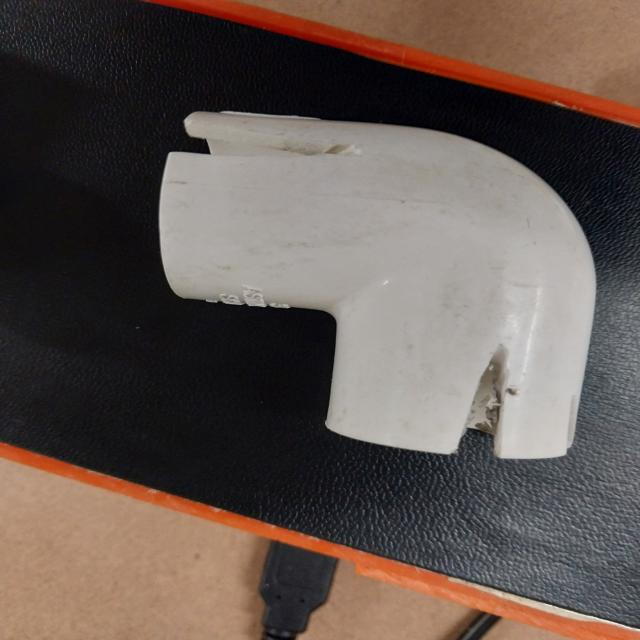Defective: (184, 112, 366, 182), (465, 347, 506, 437)
L Joint: (156, 110, 598, 465)
